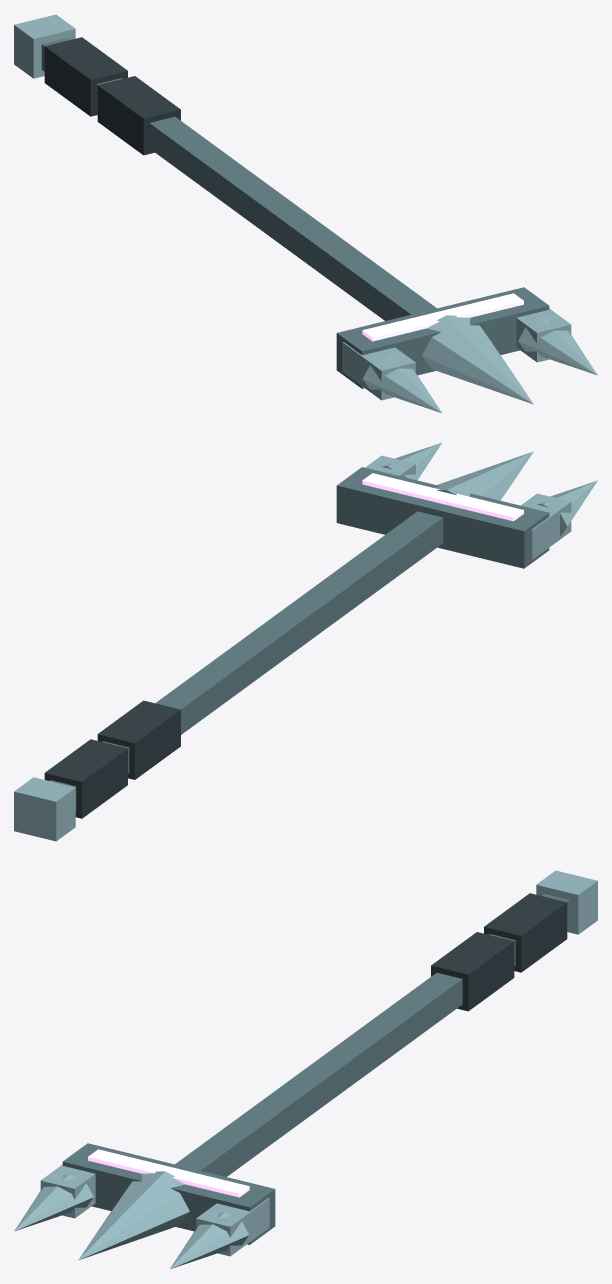
The model's file is trident.glb.
The picture shows the model from 3 angles, top to bottom: view 1: azimuth 30°, elevation 25°; view 2: azimuth 150°, elevation 25°; view 3: azimuth 330°, elevation 25°; orthographic projection.
Parts seen in each view (by area): view 1: Octagonal shaft core, Fork crosspiece, Center tine, Forward hand wrap, Rear hand wrap, End cap, Fork inlay, Right tine base, Left tine, Right tine, Left tine base; view 2: Octagonal shaft core, Fork crosspiece, Forward hand wrap, Rear hand wrap, End cap, Fork inlay, Center tine, Right tine base, Right tine, Left tine, Left tine base; view 3: Octagonal shaft core, Fork crosspiece, Center tine, Forward hand wrap, Rear hand wrap, End cap, Fork inlay, Left tine base, Left tine, Right tine, Right tine base.
Part boxes in pixels (x1,y1,x2,y2): Octagonal shaft core: [41, 38, 436, 320]; Fork crosspiece: [336, 287, 549, 388]; Center tine: [422, 315, 533, 404]; Forward hand wrap: [97, 76, 180, 155]; Rear hand wrap: [44, 37, 127, 116]; End cap: [14, 14, 75, 78]; Fork inlay: [362, 293, 523, 341]; Right tine base: [342, 342, 415, 400]; Left tine: [518, 318, 597, 375]; Right tine: [362, 356, 441, 413]; Left tine base: [516, 308, 571, 362]; Octagonal shaft core: [49, 511, 443, 811]; Fork crosspiece: [336, 467, 549, 568]; Forward hand wrap: [97, 700, 180, 779]; Rear hand wrap: [44, 739, 127, 818]; End cap: [14, 777, 75, 841]; Fork inlay: [362, 473, 523, 521]; Center tine: [434, 451, 533, 500]; Right tine base: [521, 493, 571, 559]; Right tine: [536, 480, 597, 536]; Left tine: [381, 442, 441, 480]; Left tine base: [365, 455, 415, 476]; Octagonal shaft core: [175, 894, 570, 1176]; Fork crosspiece: [62, 1143, 275, 1244]; Center tine: [78, 1171, 189, 1260]; Forward hand wrap: [431, 932, 514, 1011]; Rear hand wrap: [484, 893, 567, 972]; End cap: [536, 870, 597, 934]; Fork inlay: [88, 1149, 249, 1197]; Left tine base: [196, 1198, 269, 1256]; Left tine: [170, 1212, 249, 1269]; Right tine: [14, 1174, 93, 1231]; Right tine base: [40, 1164, 95, 1218].
Bounding box in the file's own units: 0.514 × 0.1216 × 2.17.
